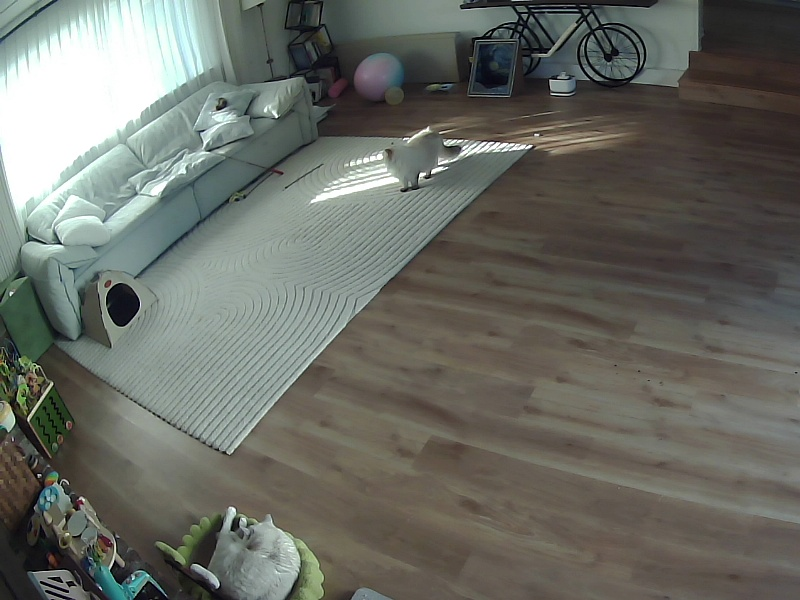Qb-2: (190, 507, 300, 599)
Qbo-2: (384, 127, 461, 191)
